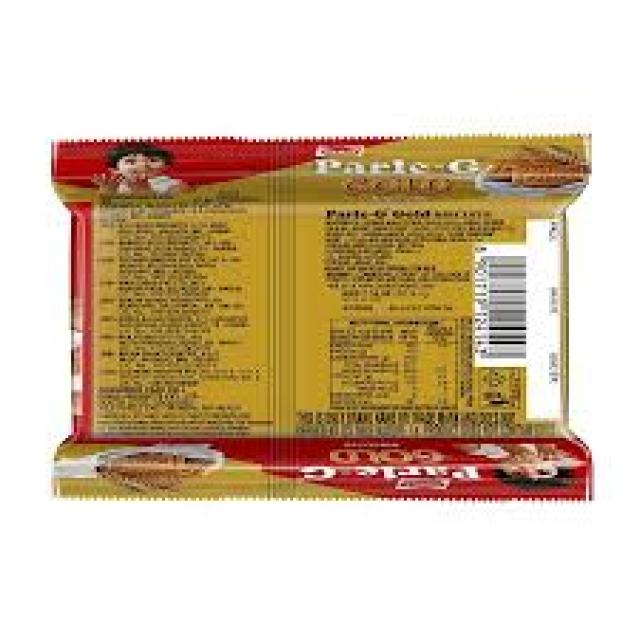parle-g: (51, 139, 595, 501)
